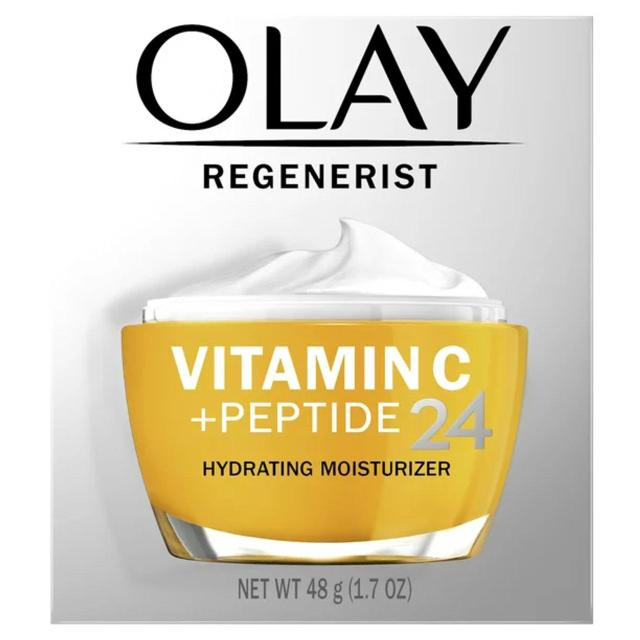lotion-moisture: (120, 12, 575, 608)
